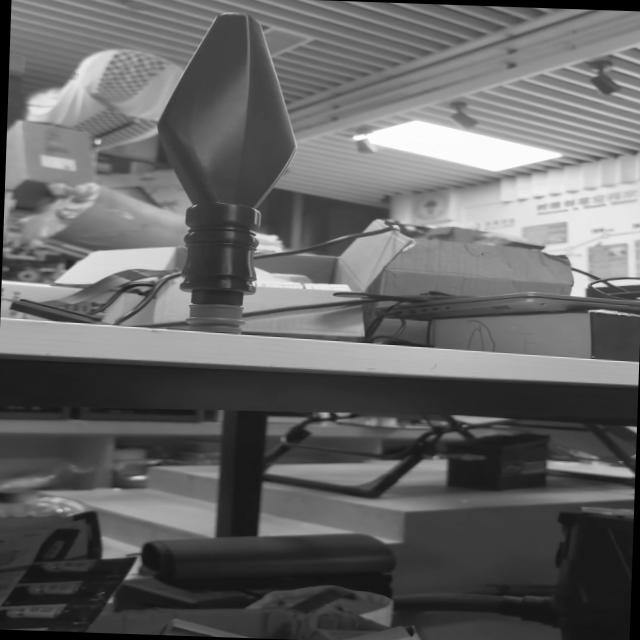base: (185, 298, 253, 336)
